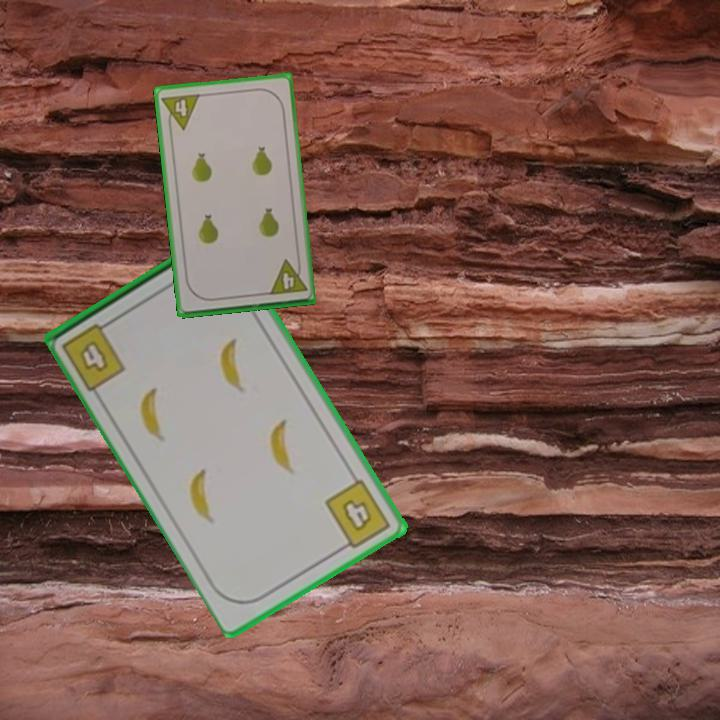4b: (321, 475, 394, 554), (58, 315, 129, 394)
4p: (158, 90, 203, 134), (265, 256, 310, 298)
